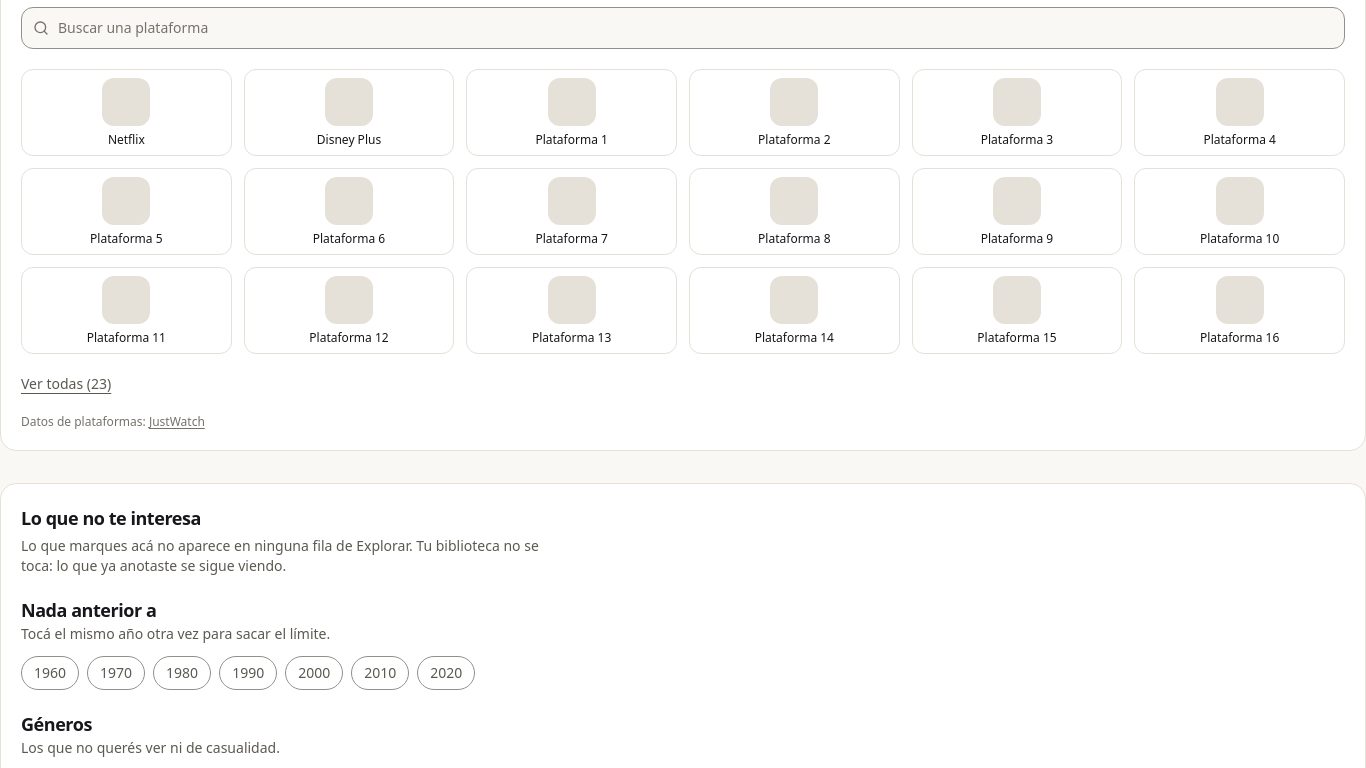
Test case: Contanos de vos › Tus plataformas › "Ver todas" muestra la lista completa
(page scrolled)
What coordinates should you click on to do the following:
click the button "Ver todas (23)"
I would click on:
 (66, 384)
Its box is [21,374,111,394].
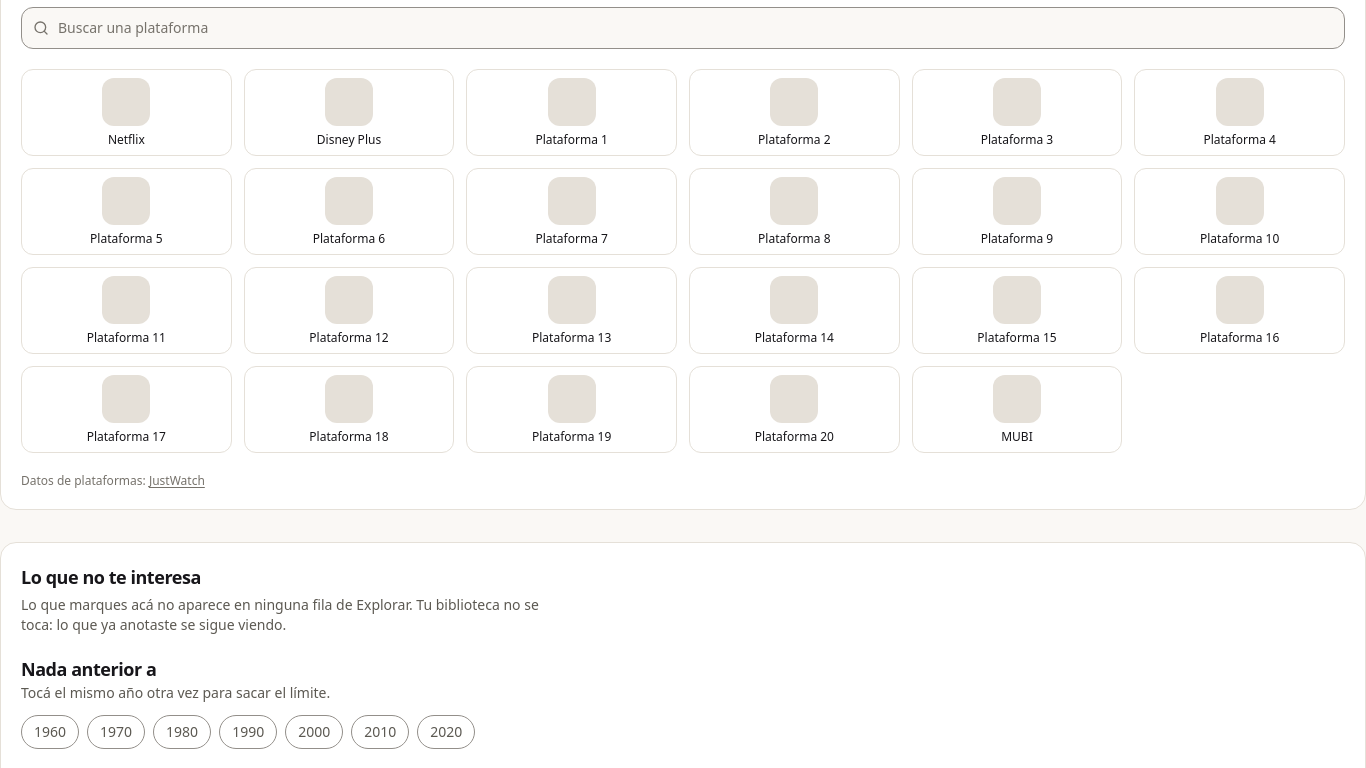
Now the button "MUBI" is shown, box [912,366,1122,453]
